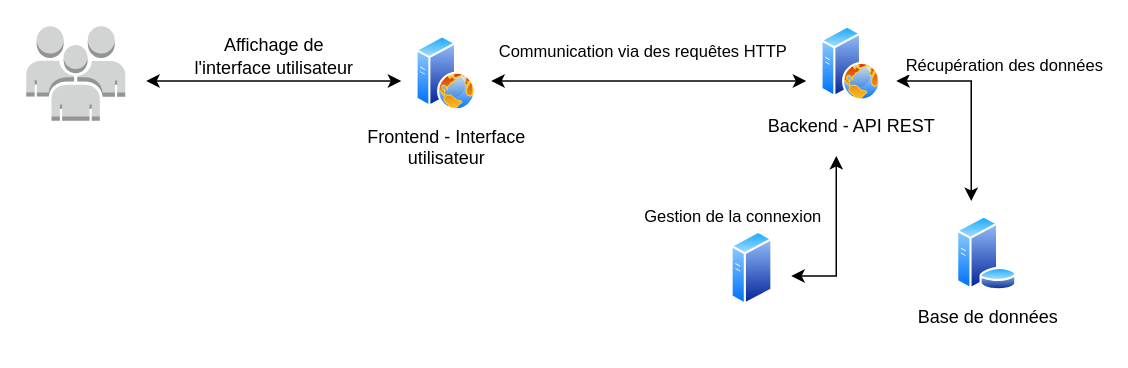
Some shapes in this 1128 by 368 pixel diagram are drawn without their labels. The shapes that lost their labels are listed below. From the top down, each one's centre as x and y in pixels, then its label:
At [75,73]: "Utilisateurs".
At [751,267]: "Serveur Keycloak".
